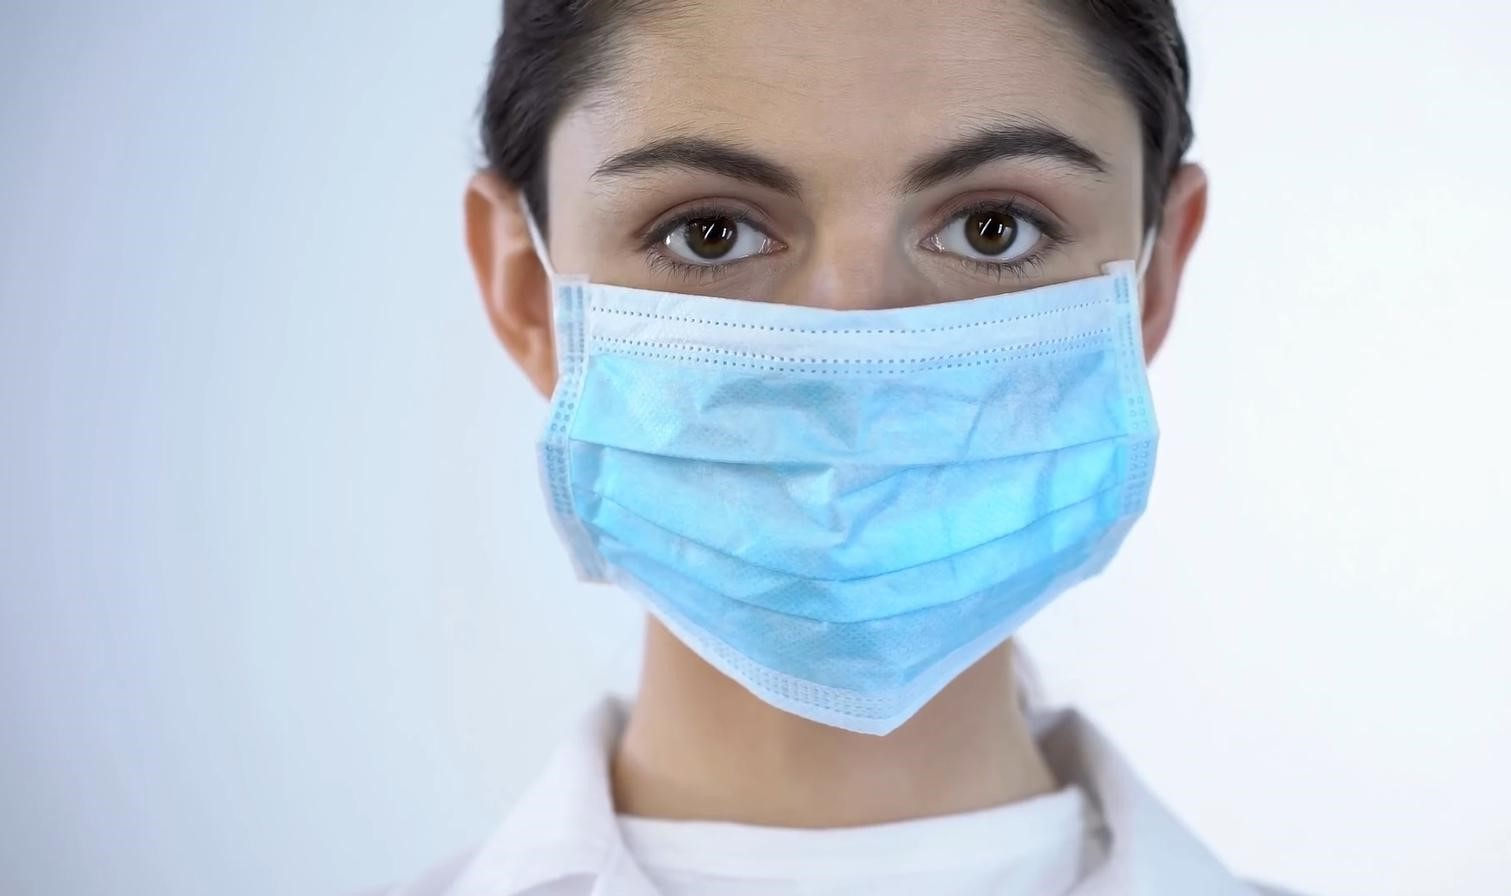with_mask: (592, 122, 1133, 585)
